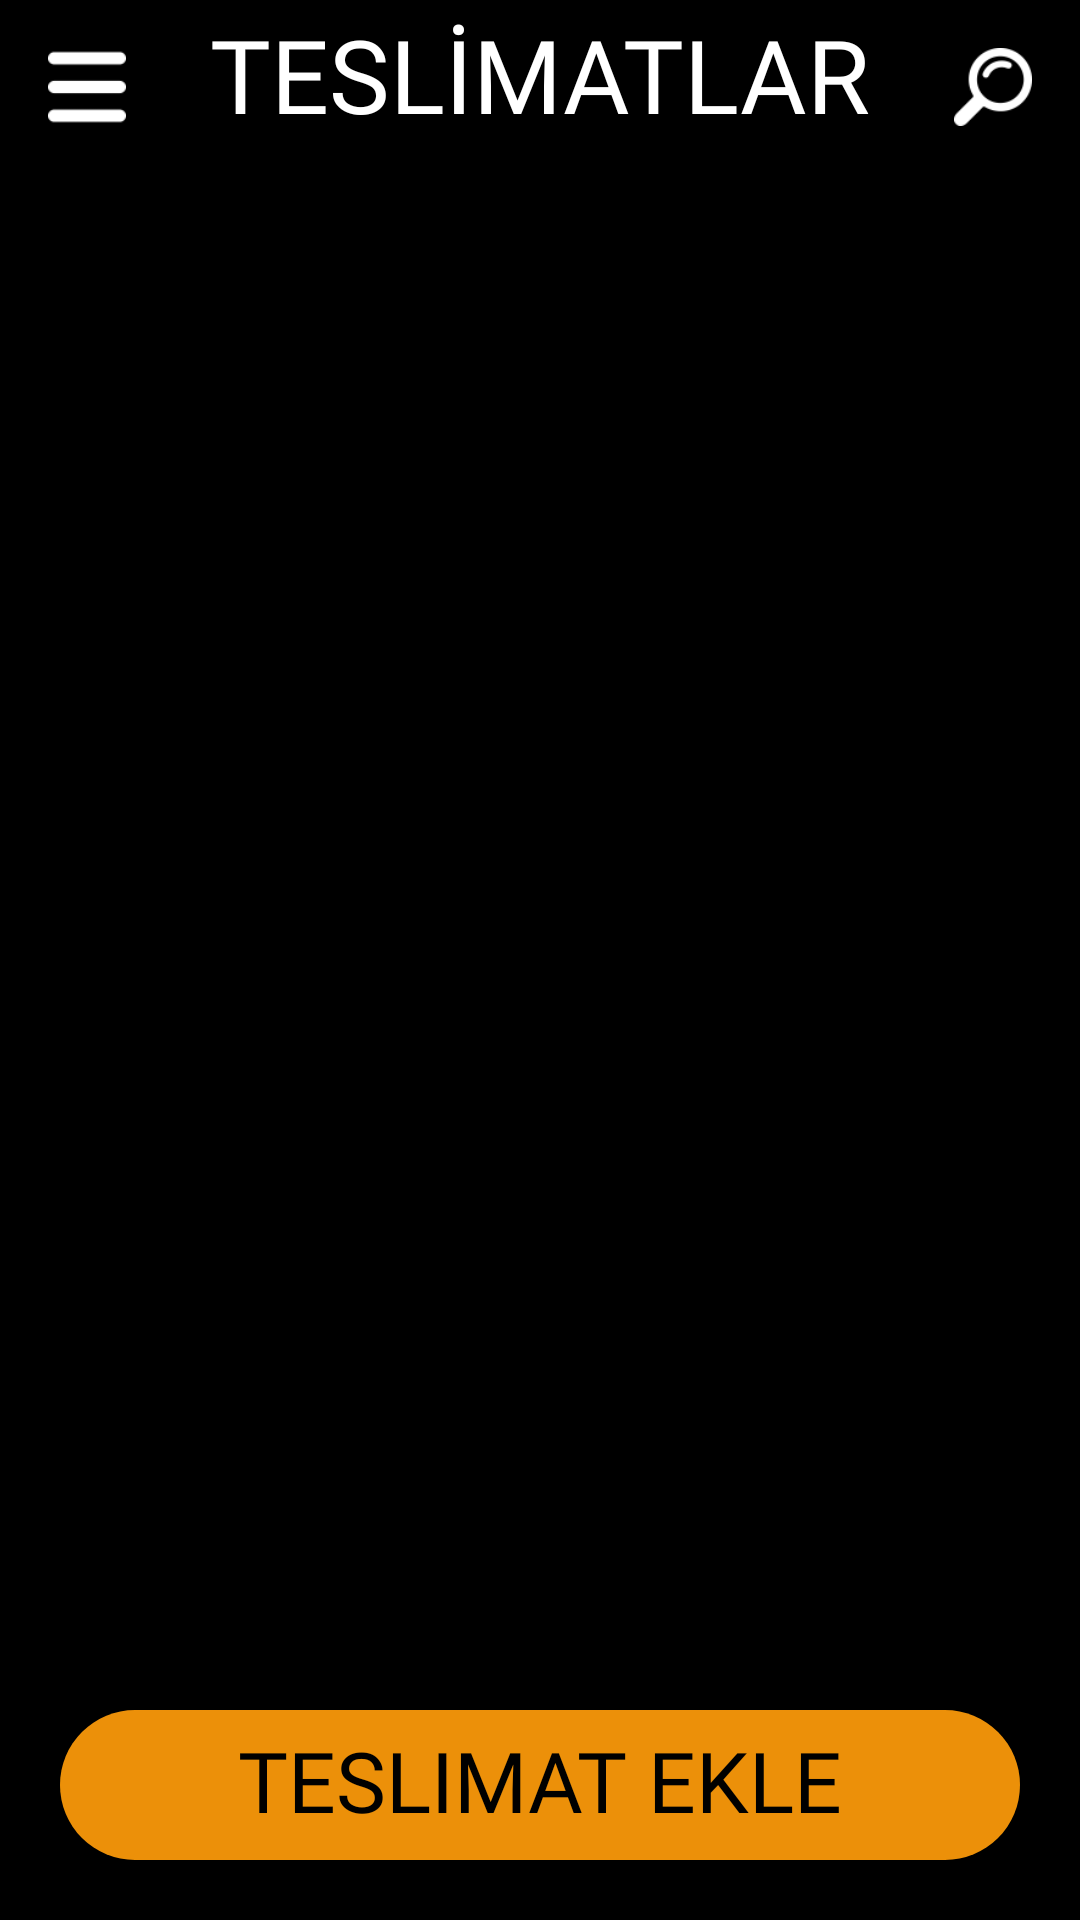

Icon bounding boxes for this 1080 x 1920 phone screenshot, format [left=x1, top=y1, right=x2, bottom=y2]:
menu: [left=48, top=51, right=126, bottom=123]
search: [left=954, top=48, right=1032, bottom=126]
